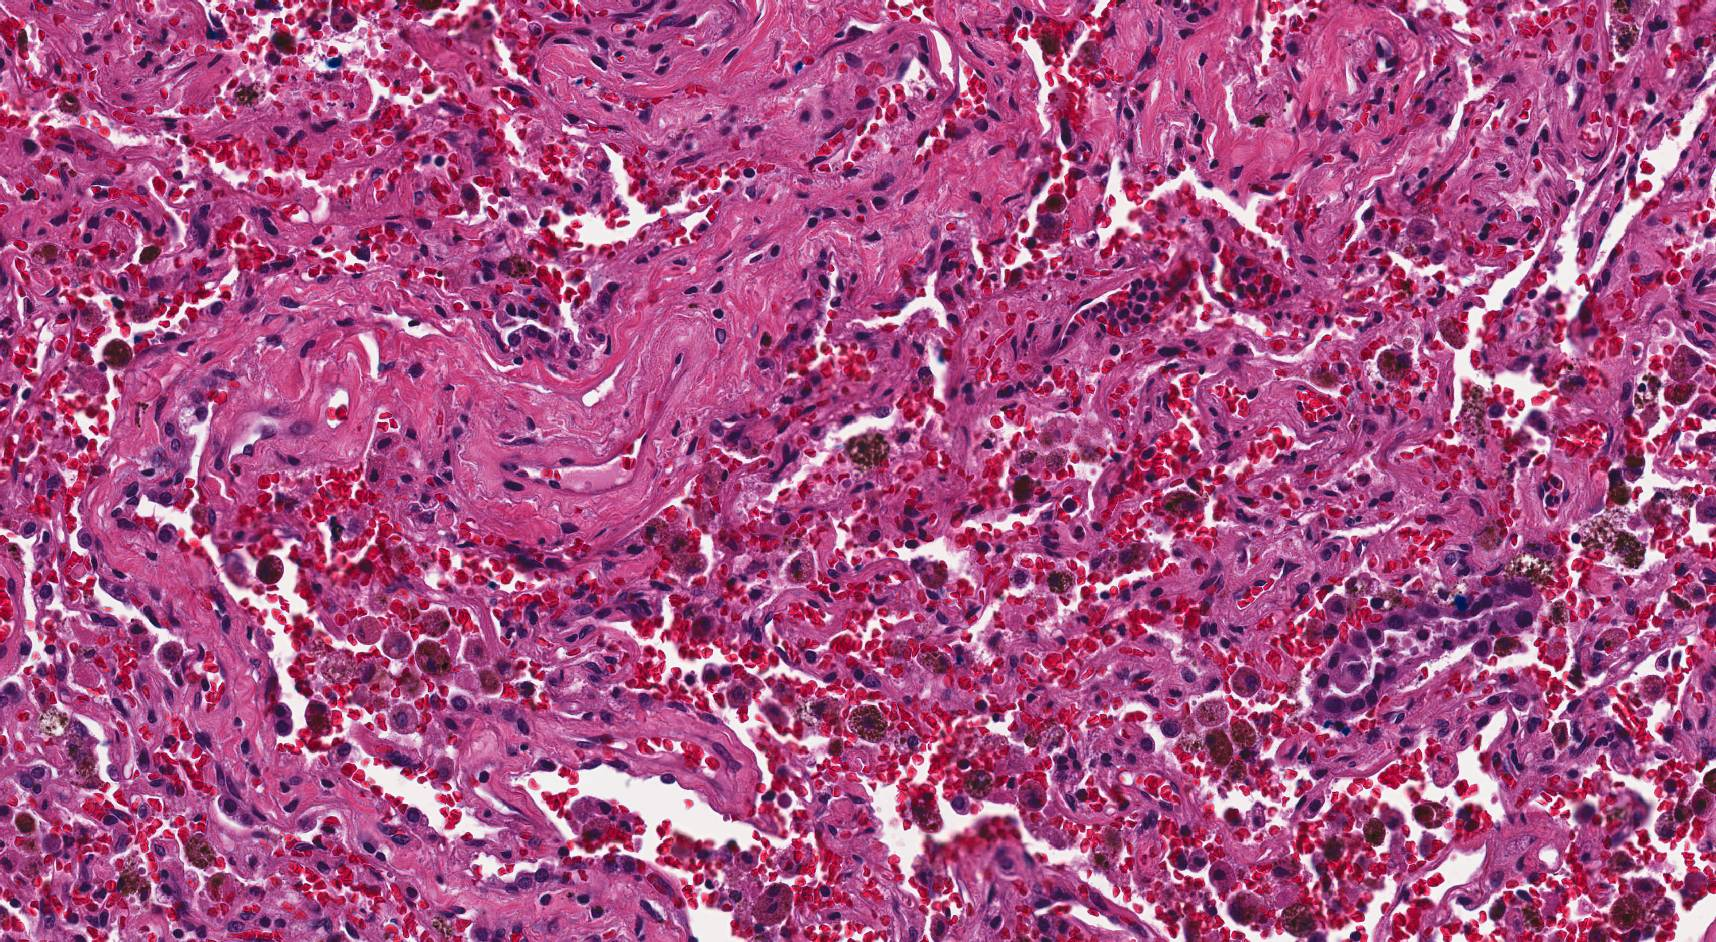stas: (1310, 578, 1546, 716)
